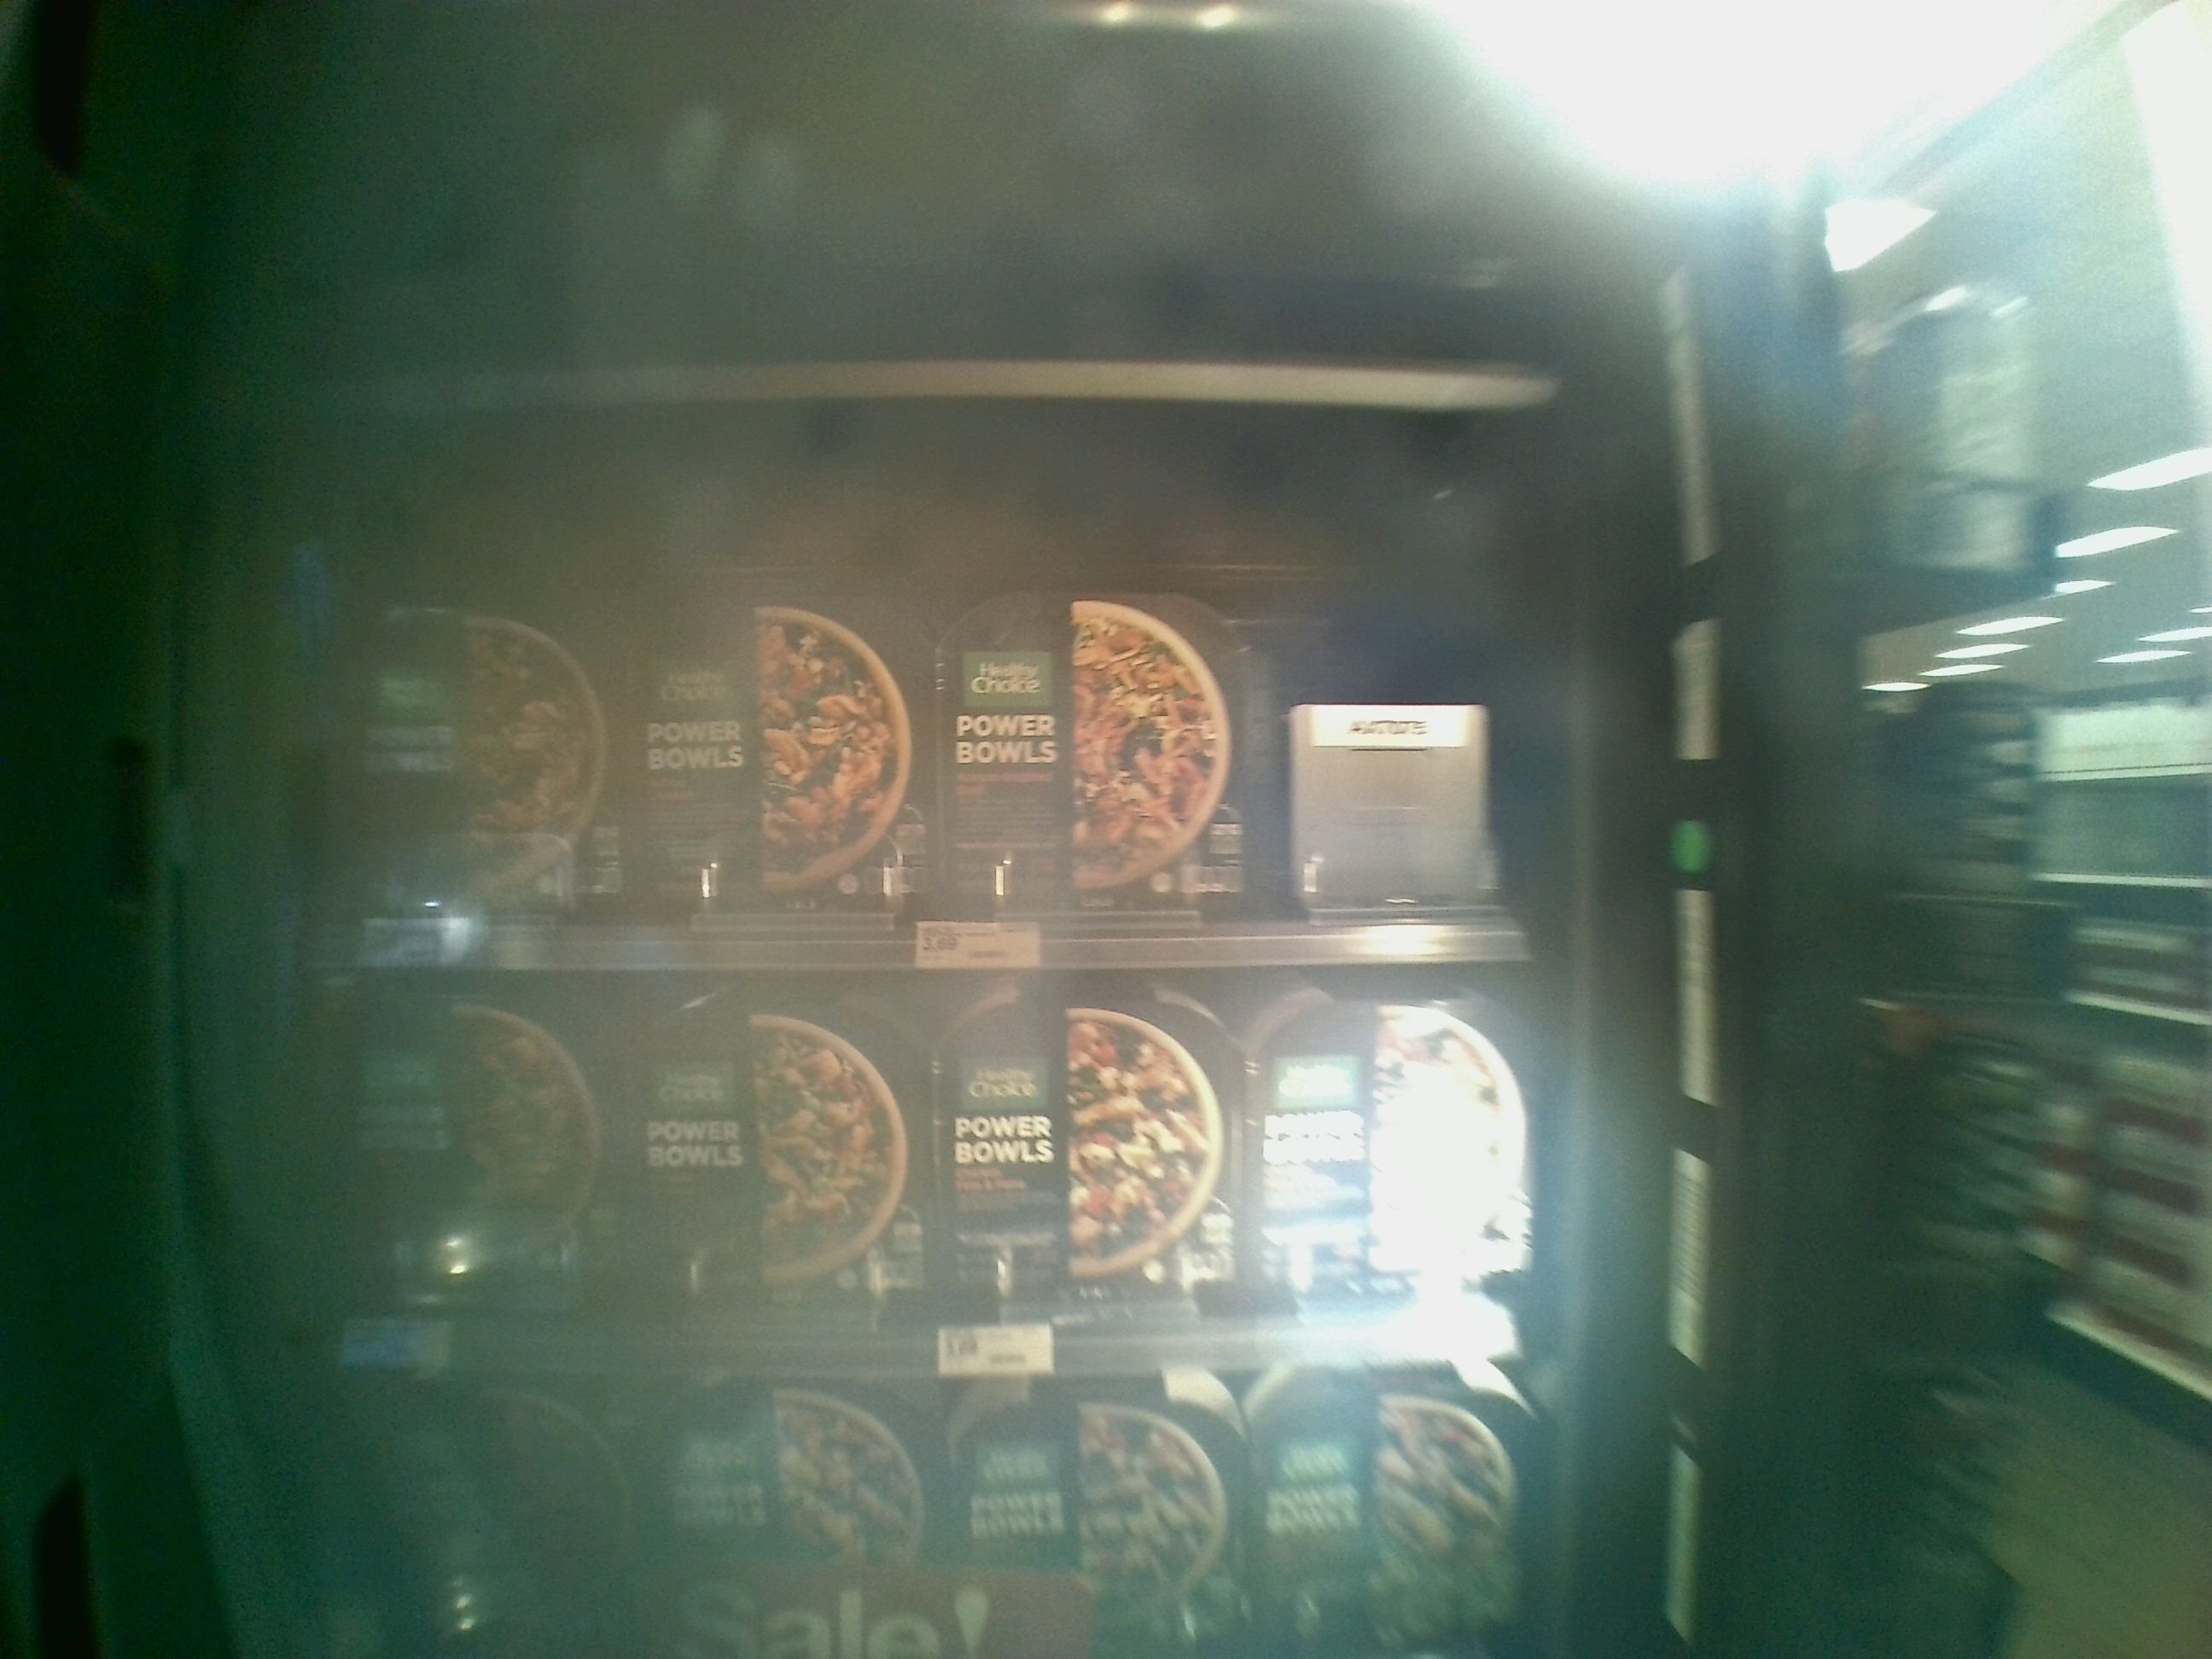shelf: (280, 364, 1540, 948), (305, 943, 1534, 1371)
